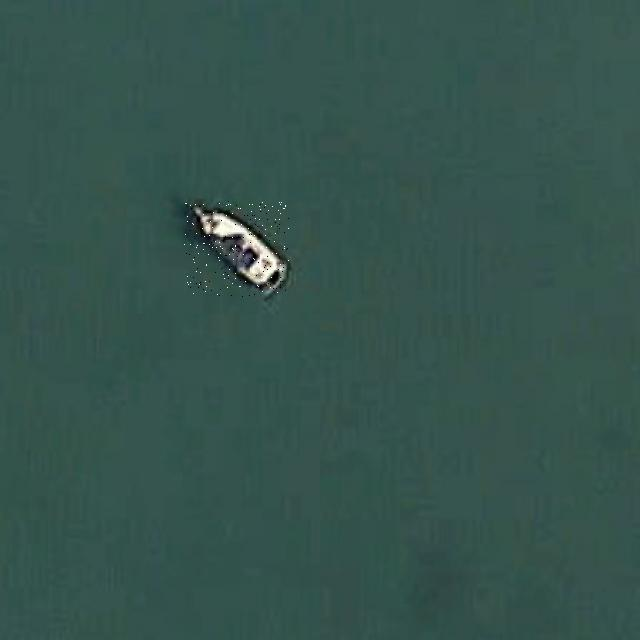boat: (184, 201, 289, 297)
